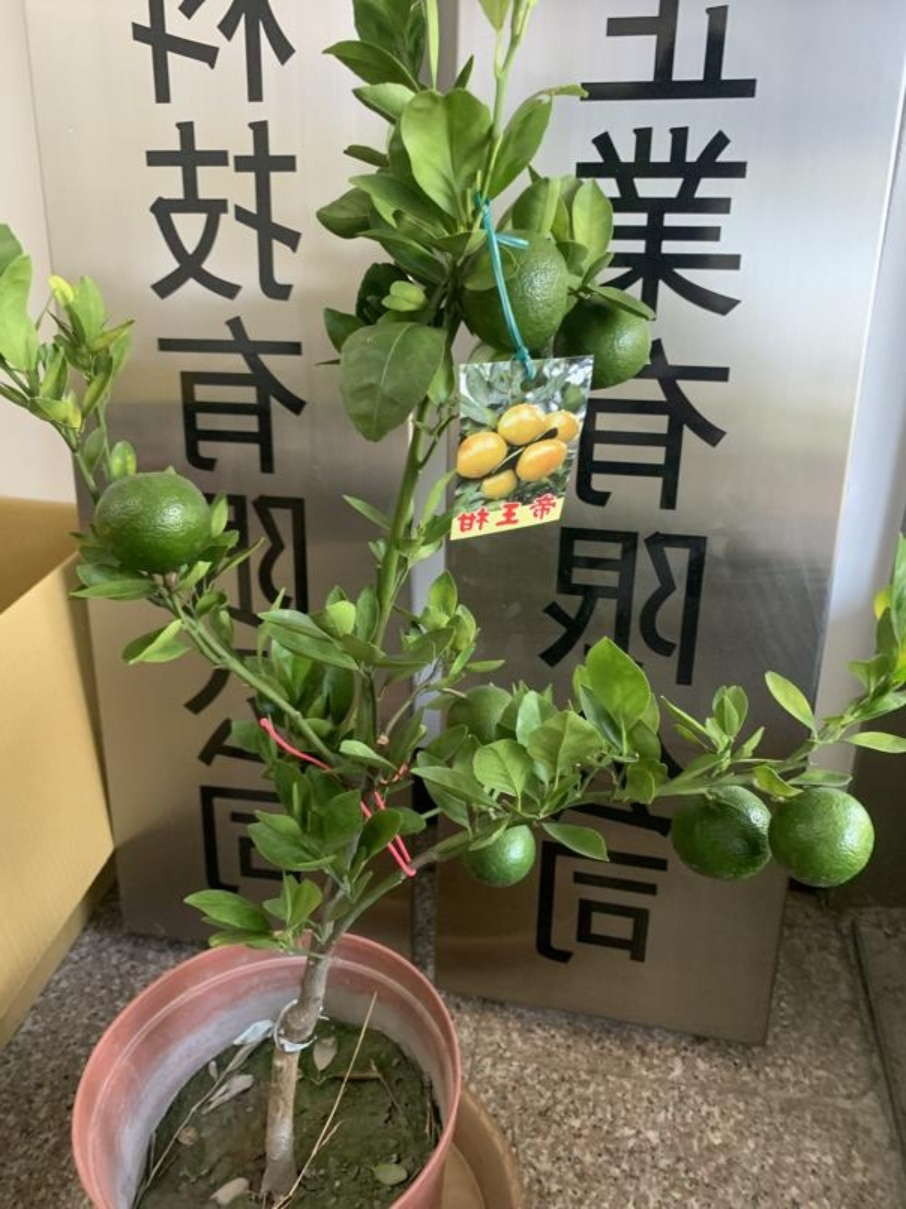Tangerine: (89, 464, 215, 572), (762, 785, 879, 888), (672, 785, 772, 883), (465, 823, 536, 889)
